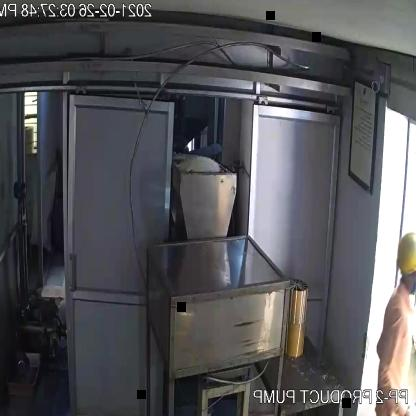helmet: (392, 228, 416, 277)
